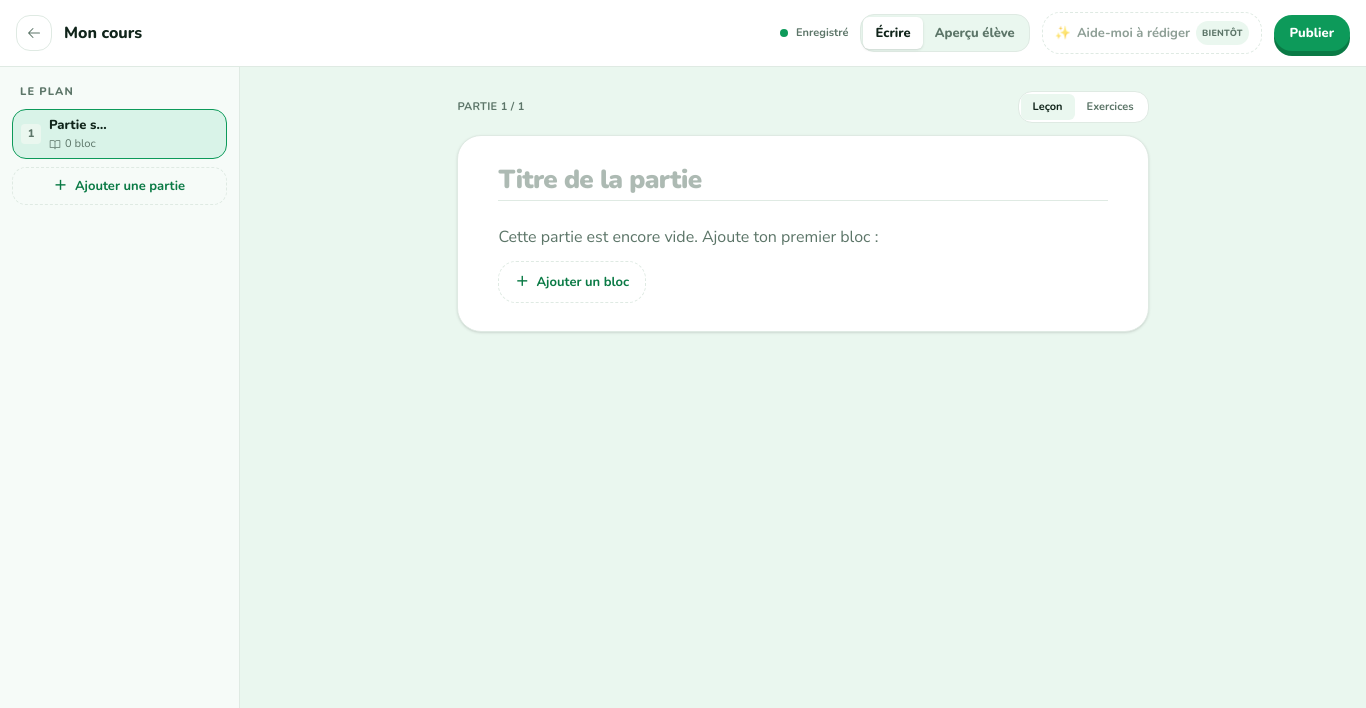
Test case: EditeurCours — ajout de bloc par « + » › insère un diagramme depuis la palette (#229)
Expected: the field named "Titre du cours" is shown, x1=64 y1=21 x2=768 y2=45
Click the button with aria-label "Ajouter un bloc ici" at point(572, 282), box x1=498 y1=261 x2=646 y2=303
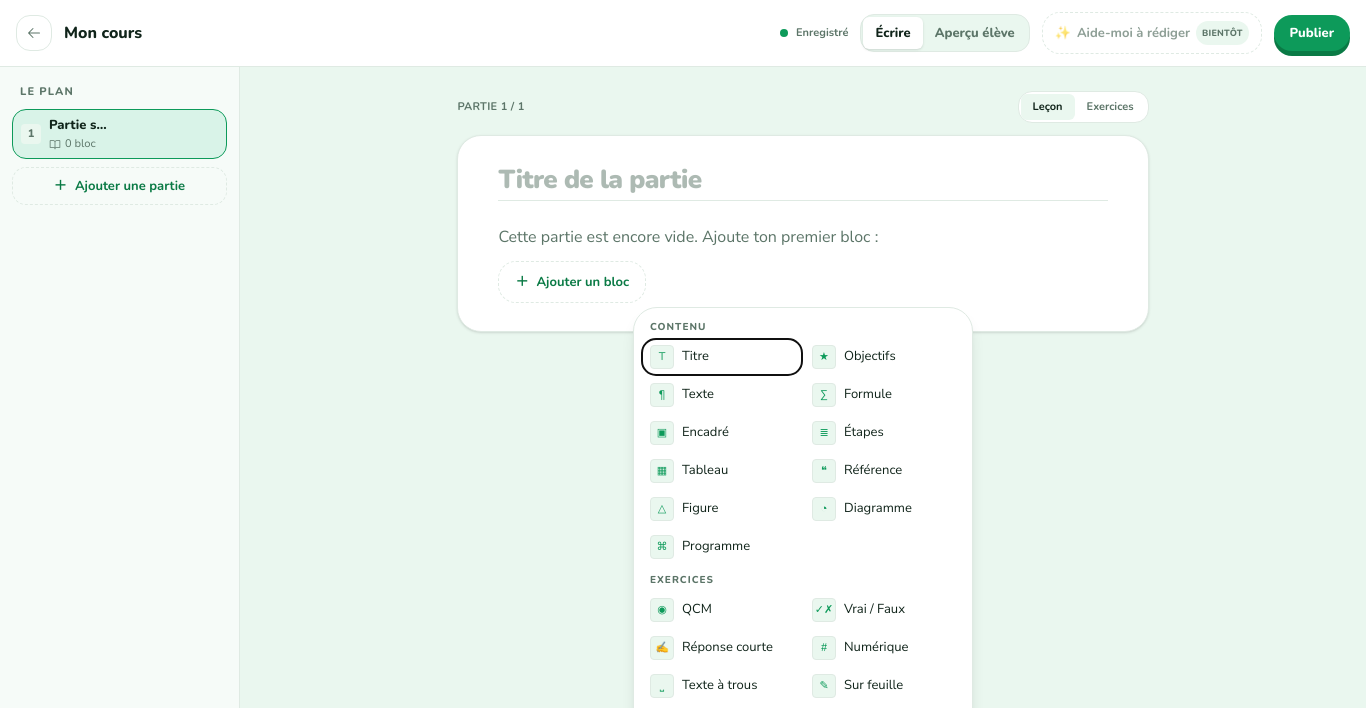
Click the menu item "◔ Diagramme" at point(884, 509), box x1=804 y1=491 x2=964 y2=527
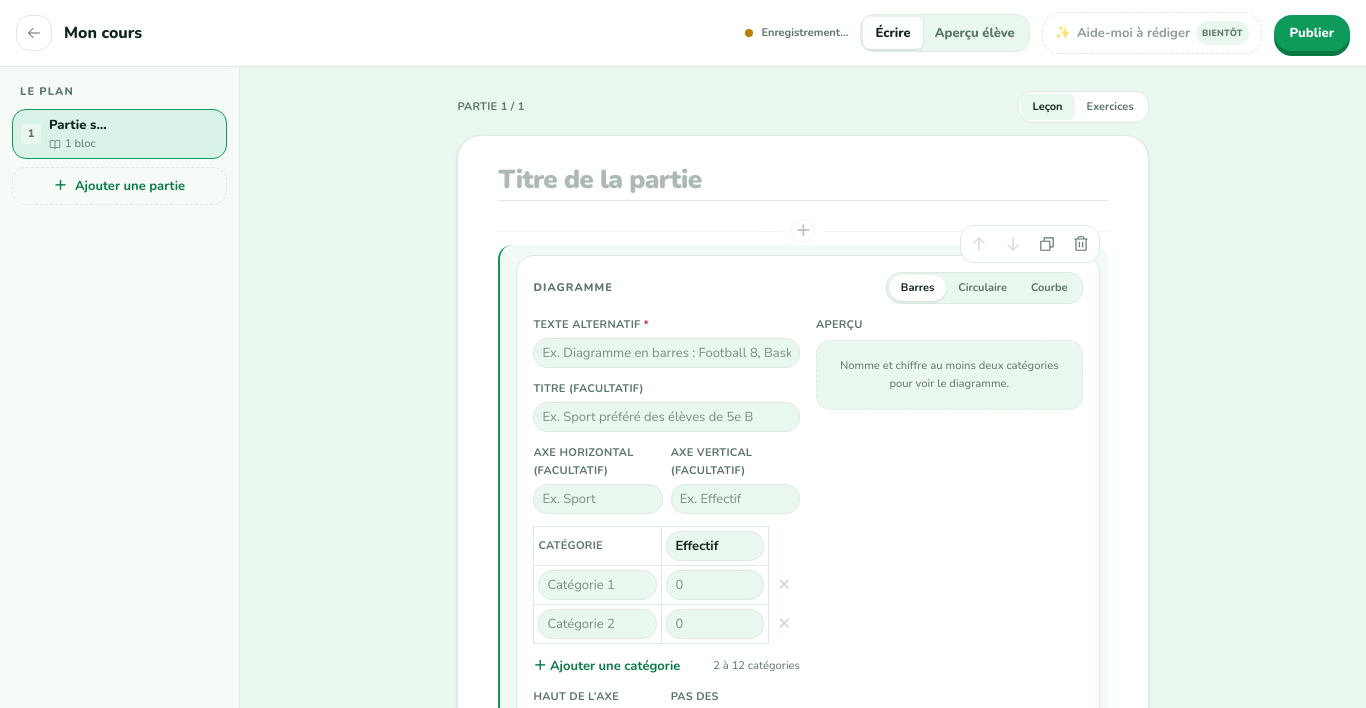
Expected: the element named "Sorte de diagramme" is shown, x1=886 y1=272 x2=1083 y2=304
Expected: the field labelled "Catégorie 1" is shown, x1=538 y1=570 x2=657 y2=600
